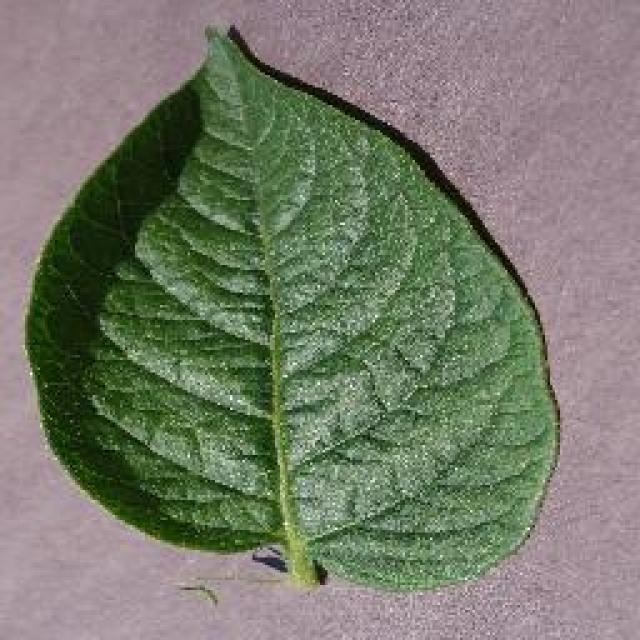Potato: (22, 20, 560, 592)
